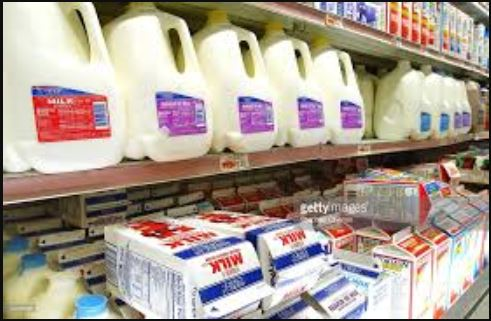milk: (4, 1, 127, 164), (112, 2, 214, 156), (197, 11, 278, 149), (260, 19, 331, 145), (312, 31, 364, 142), (383, 59, 435, 142), (424, 66, 453, 136)
